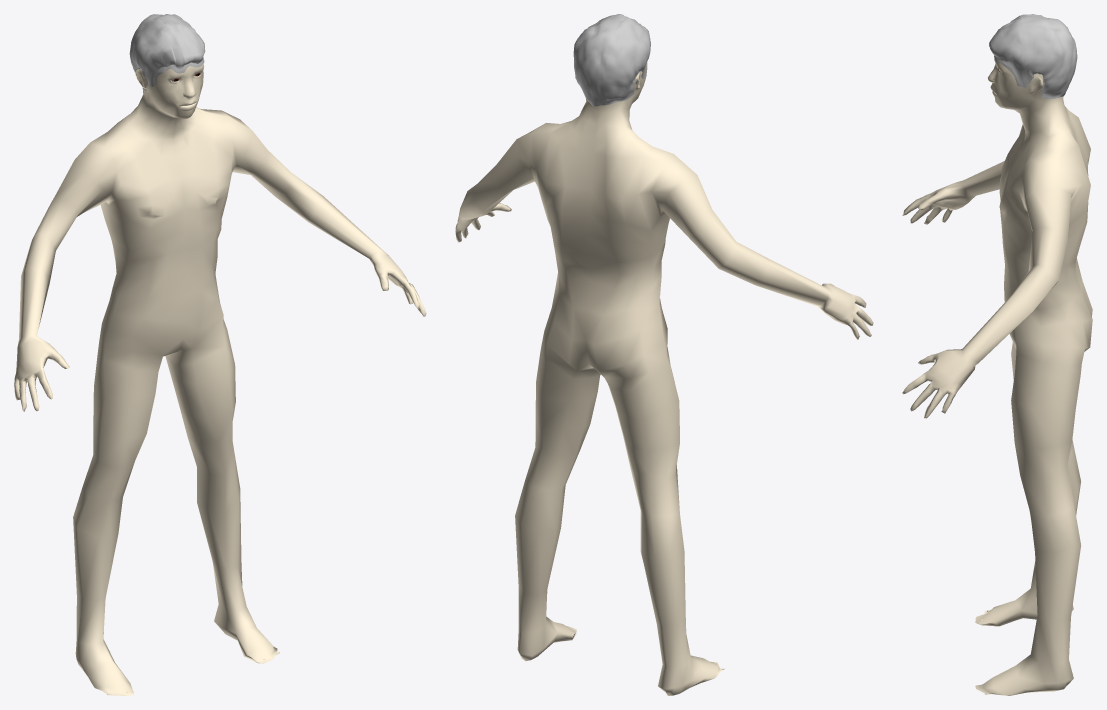
The model's file is npc05.fbx.
3 renders of one model, left to right at view 1: azimuth 30°, elevation 25°; view 2: azimuth 150°, elevation 25°; view 3: azimuth 270°, elevation 25°, orthographic.
Parts seen in each view (by area): view 1: female1605Mesh, short02Mesh; view 2: female1605Mesh, short02Mesh; view 3: female1605Mesh, short02Mesh.
Part boxes in pixels (bbox=[...]): female1605Mesh: bbox=[14, 63, 426, 695]; short02Mesh: bbox=[129, 14, 205, 90]; female1605Mesh: bbox=[455, 61, 873, 695]; short02Mesh: bbox=[573, 14, 650, 106]; female1605Mesh: bbox=[902, 58, 1092, 695]; short02Mesh: bbox=[989, 14, 1077, 99].
Size of the model in its own units: 11.26 by 17.18 by 4.65.
